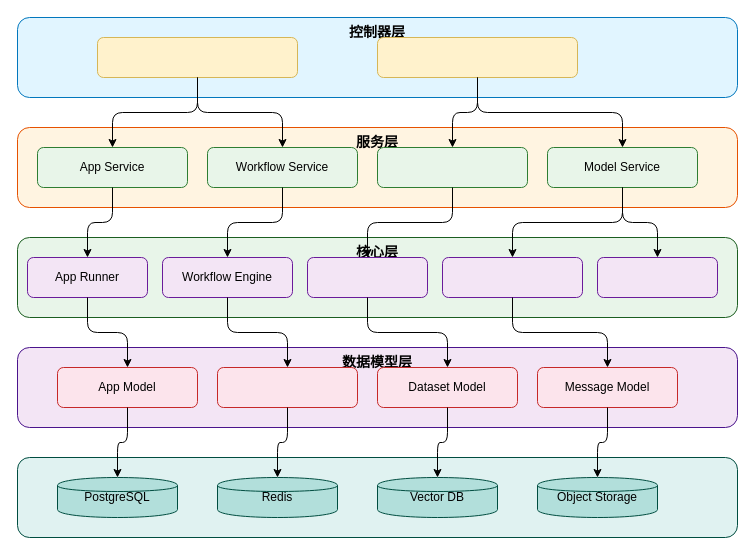
Image size: 755x555. Some labels were removed from this diagram. The box of each missing label's shape, as (x1, y1, x2, y2) in pixels:
Agent Framework: (442, 256, 582, 298)
Console API: (96, 36, 298, 78)
Dataset Service: (376, 146, 528, 188)
Model Runtime: (596, 256, 718, 298)
RAG Pipeline: (306, 256, 428, 298)
Service API: (376, 36, 578, 78)
Workflow Model: (216, 366, 358, 408)
基础设施层: (16, 456, 738, 538)
